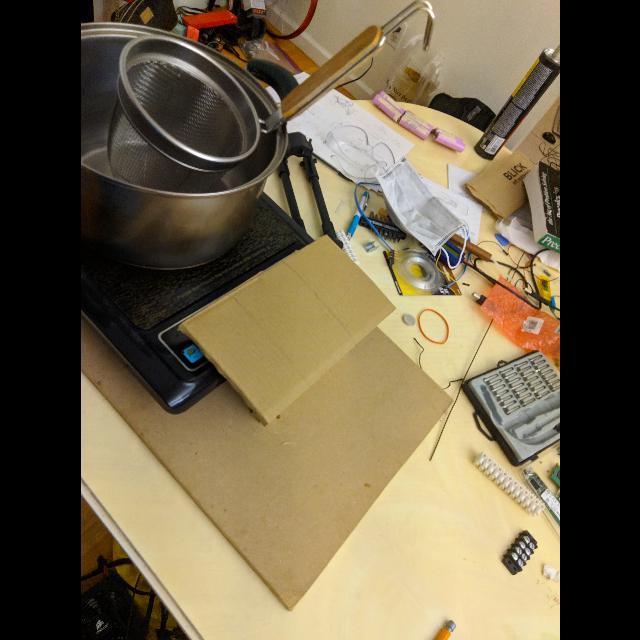Handle: (279, 0, 439, 126)
Strainer: (118, 32, 262, 166)
